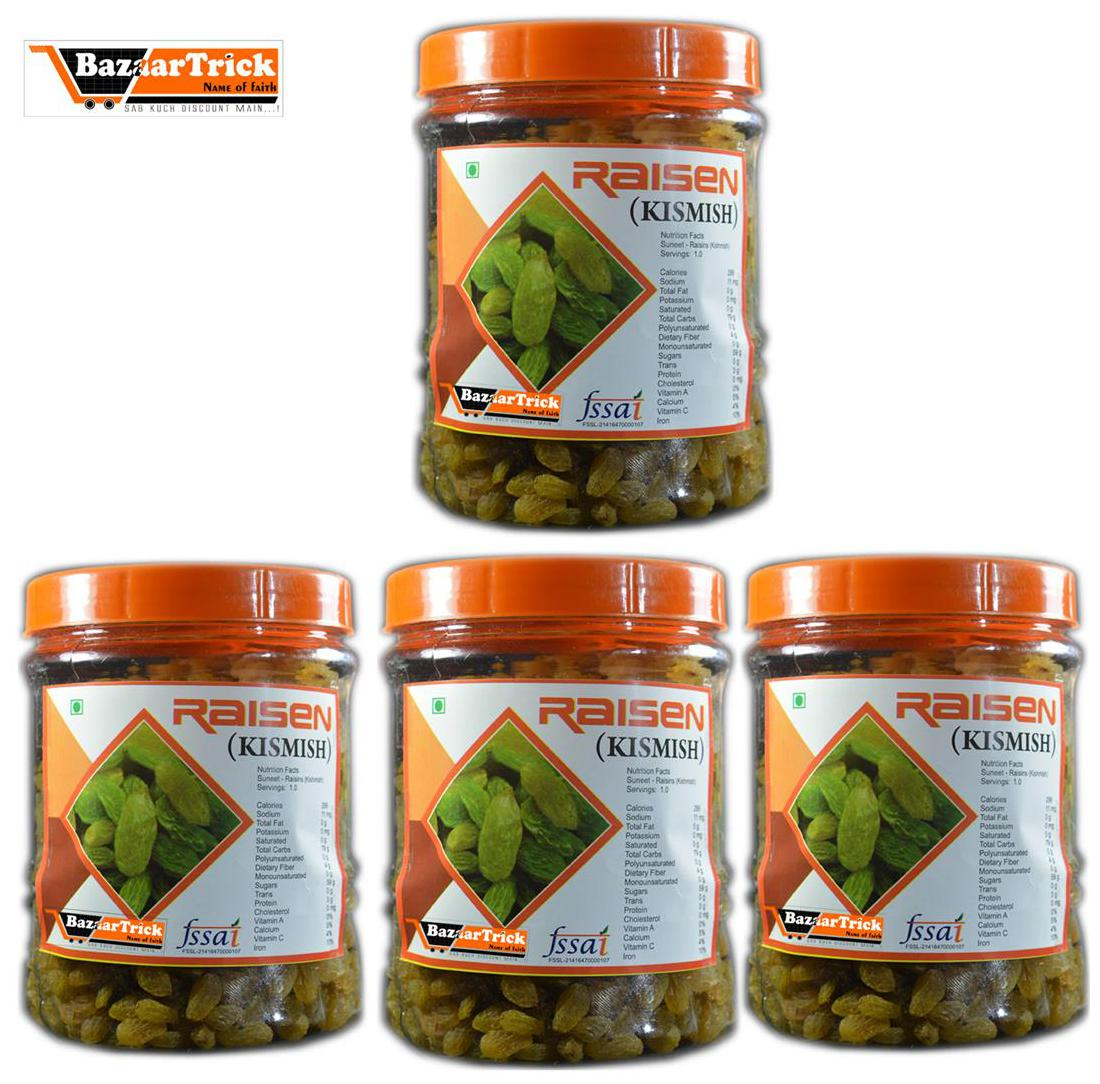JAR: (404, 10, 782, 539), (370, 553, 743, 1066), (11, 553, 372, 1059), (739, 551, 1096, 1057)
